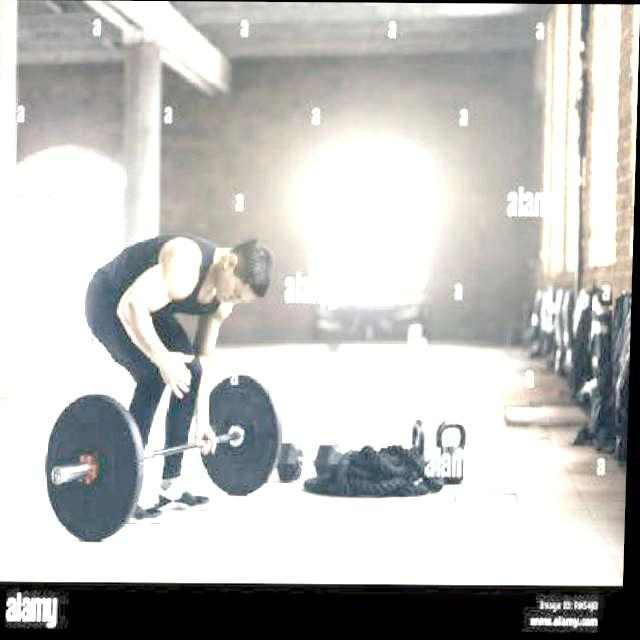barbell: (43, 390, 146, 547)
